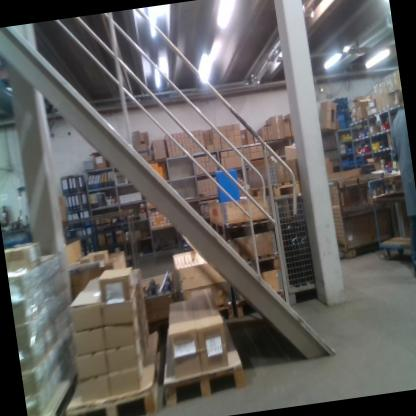pallet: (54, 327, 172, 416), (153, 310, 250, 408), (20, 357, 86, 416), (246, 177, 306, 203), (203, 301, 234, 321)
stillage: (325, 163, 400, 261), (271, 184, 321, 307)
